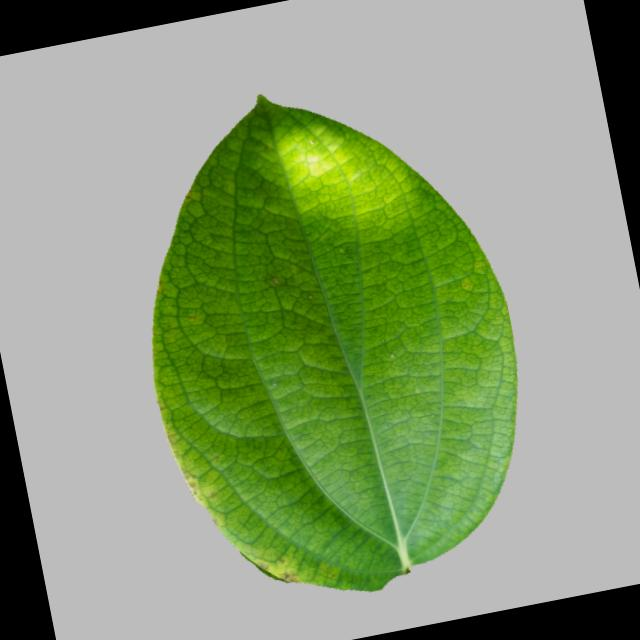healthy: (96, 46, 558, 633)
